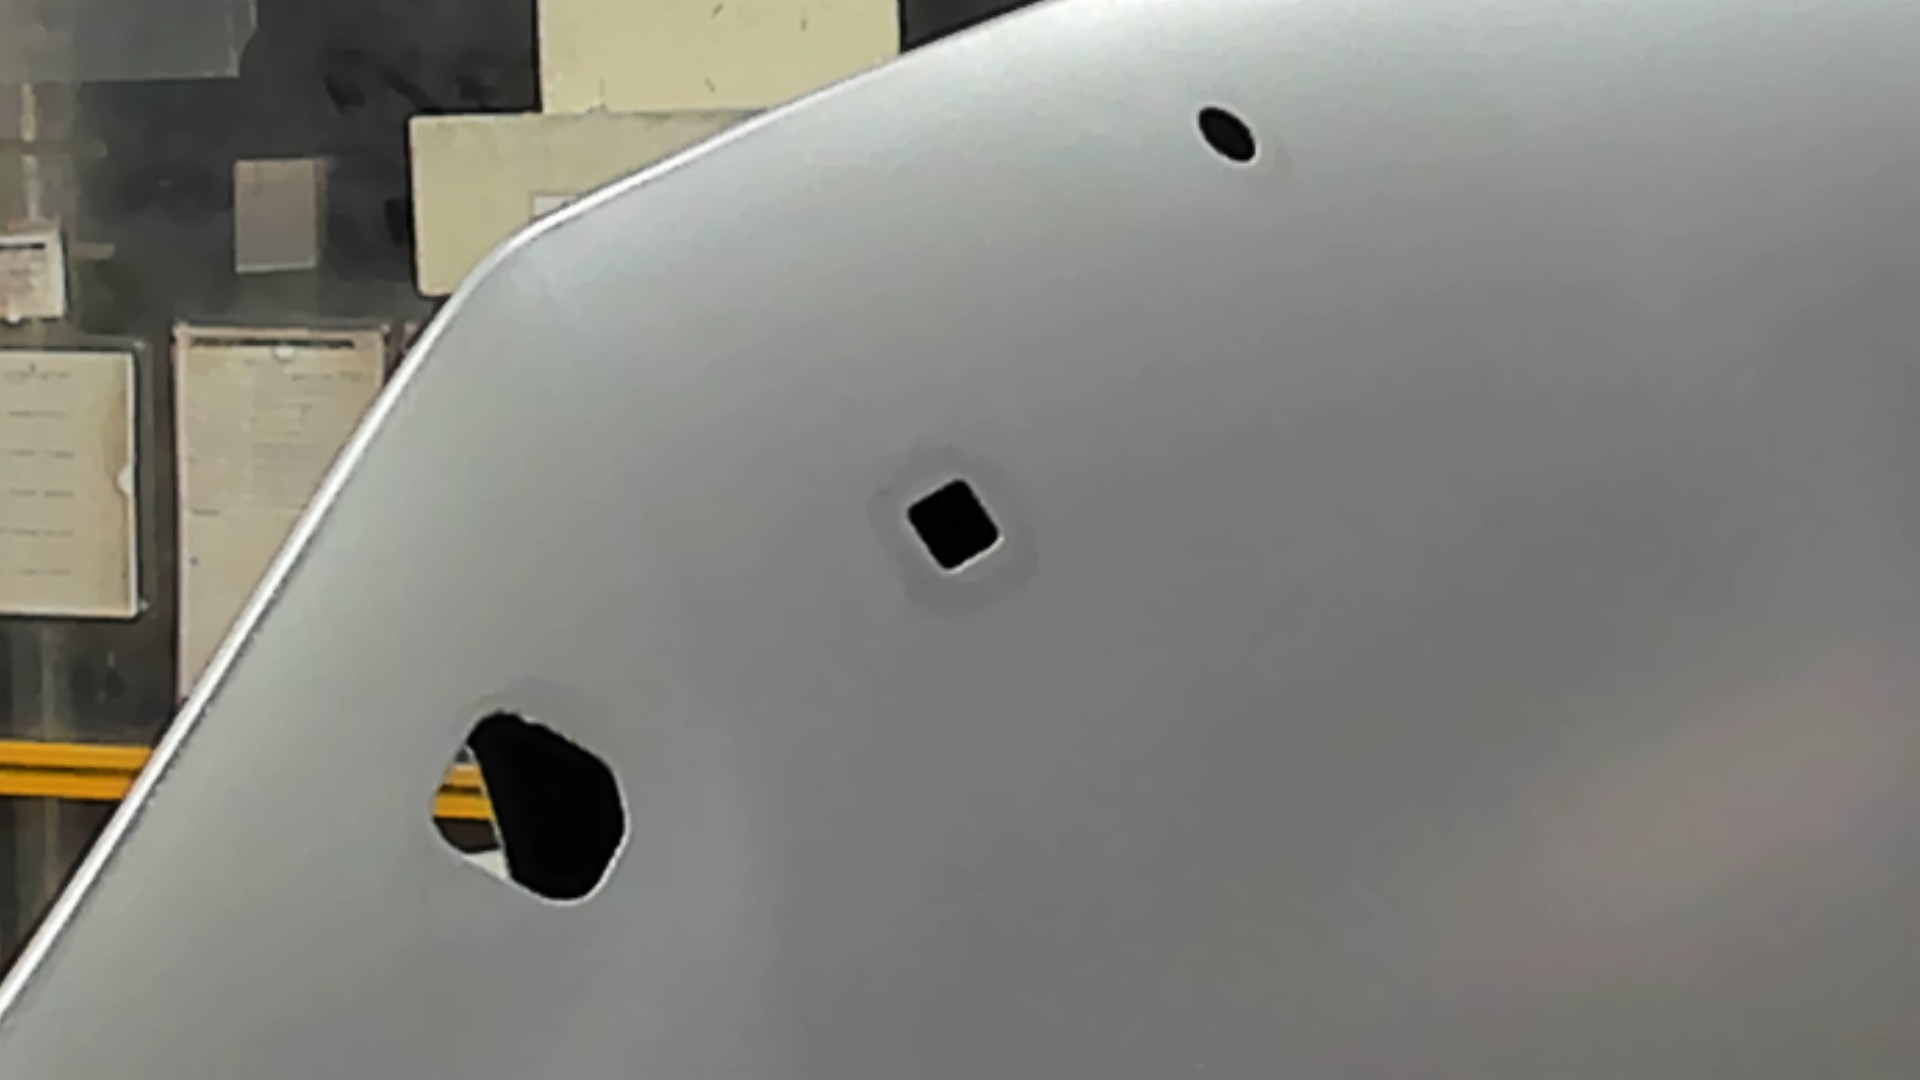chico: (1192, 100, 1263, 167)
grande: (421, 703, 637, 918)
mediano: (899, 473, 1007, 576)
